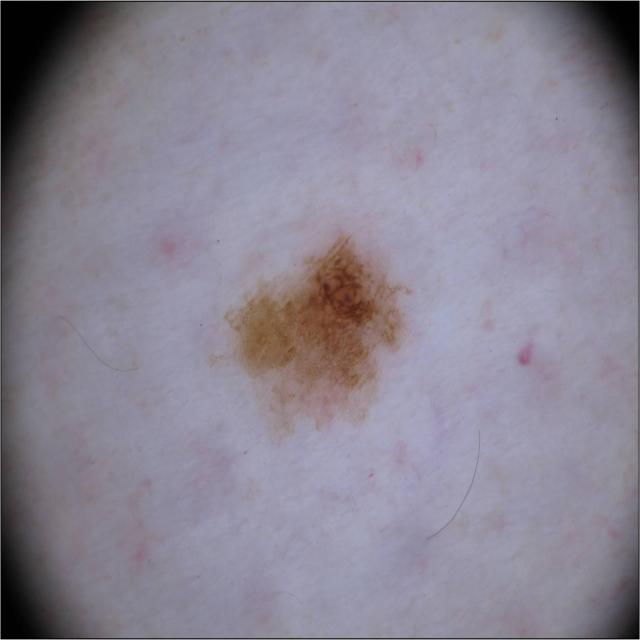Benign: (217, 222, 426, 442)
